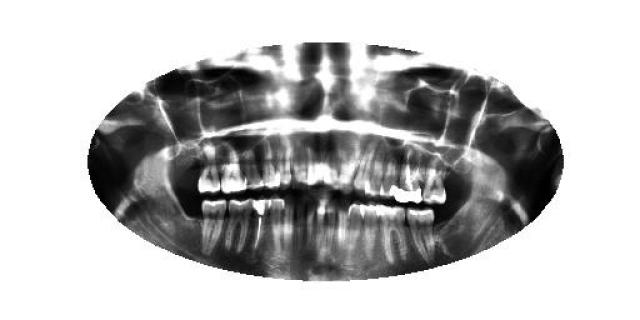Fillings: (393, 149, 422, 205)
Implant: (252, 197, 272, 255)
